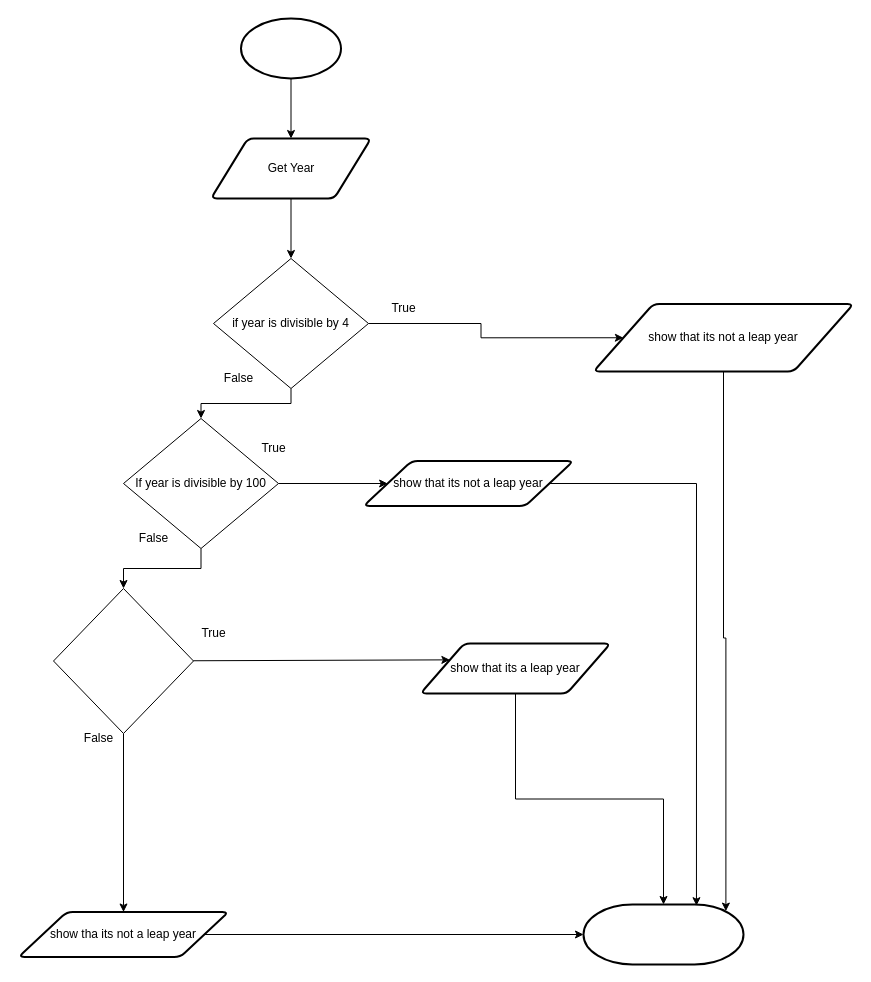
Some shapes in this 871 by 982 pixel diagram are drawn without their labels. Each missing label, with the box of its shape:
If year is divisible by 400: (52, 588, 194, 734)
Start: (240, 17, 342, 79)
Stop: (582, 903, 744, 965)
